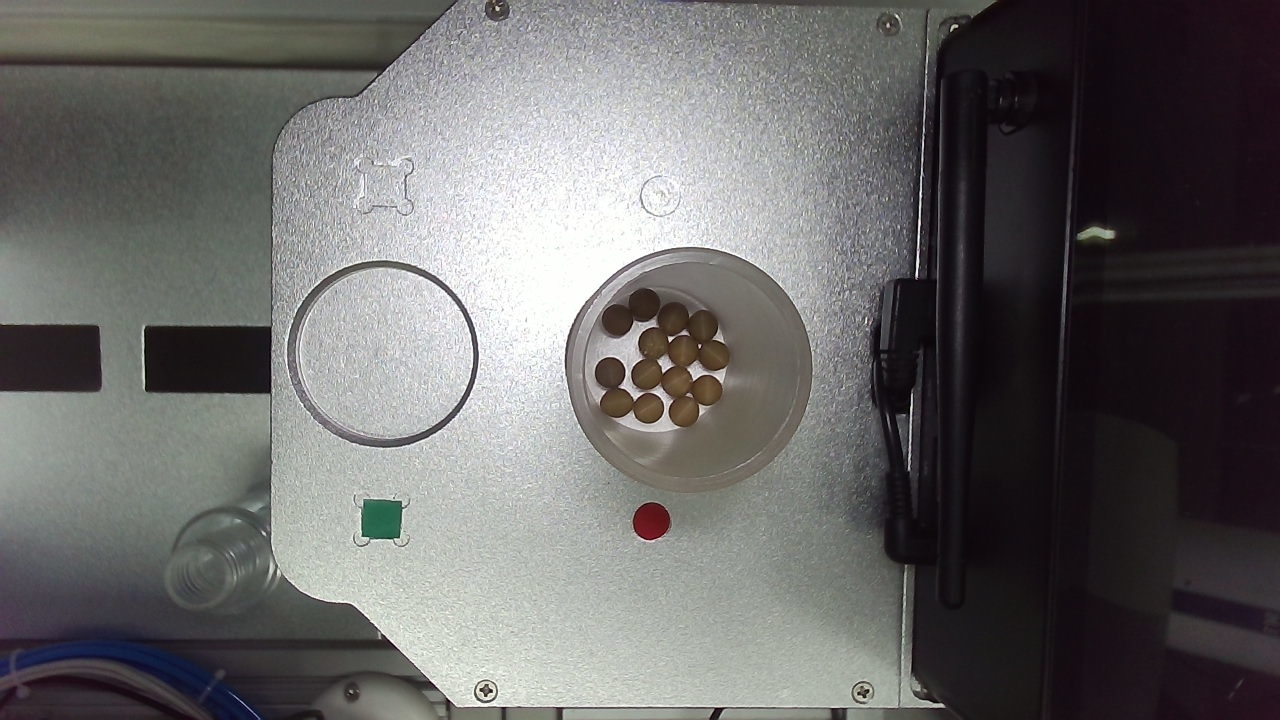XLabel: (726, 235, 760, 268)
YLabel: (508, 230, 543, 265)
none: (441, 301, 602, 463)
transparenexcept: (663, 268, 911, 481)
